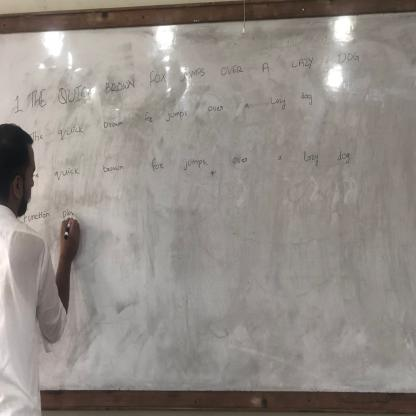Handwritten text: (18, 28, 371, 121), (24, 82, 323, 148), (49, 136, 358, 192)
Lecturer: (2, 118, 60, 406)
Whiteboard: (1, 6, 416, 399)
